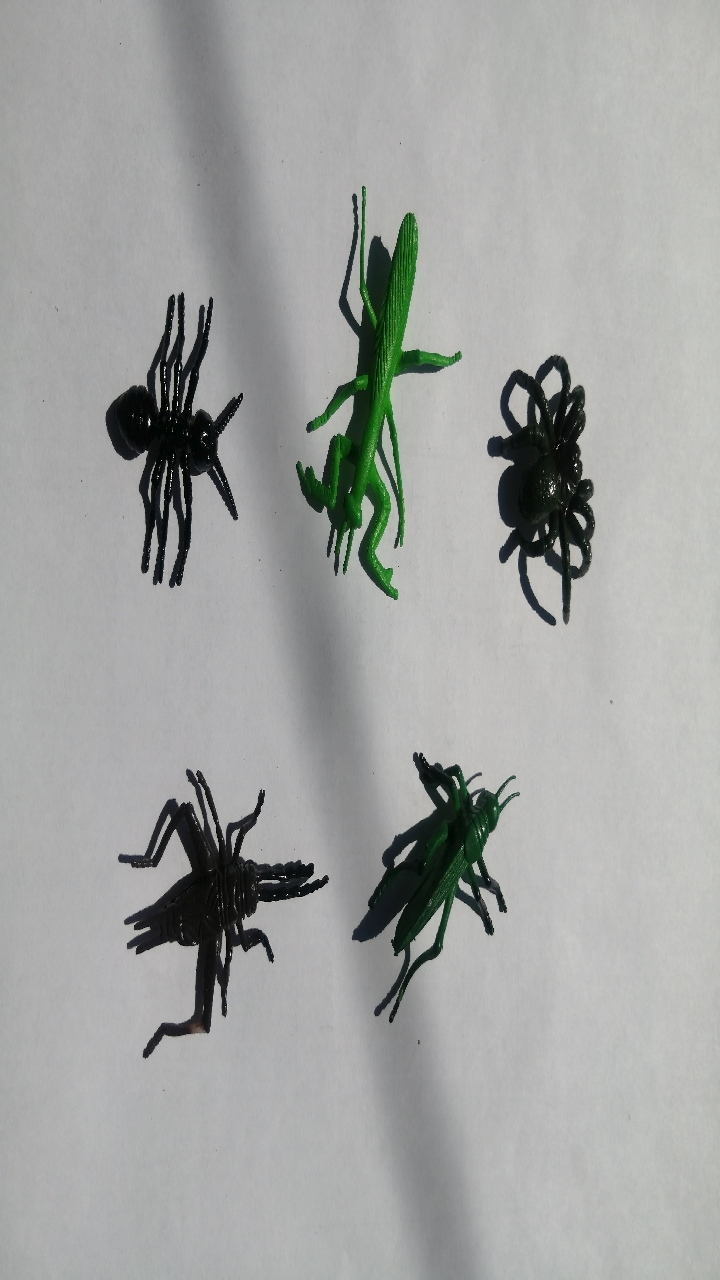intruso: (84, 712, 318, 1049), (268, 163, 438, 612), (52, 235, 248, 623), (351, 691, 532, 1051), (480, 302, 615, 620)
